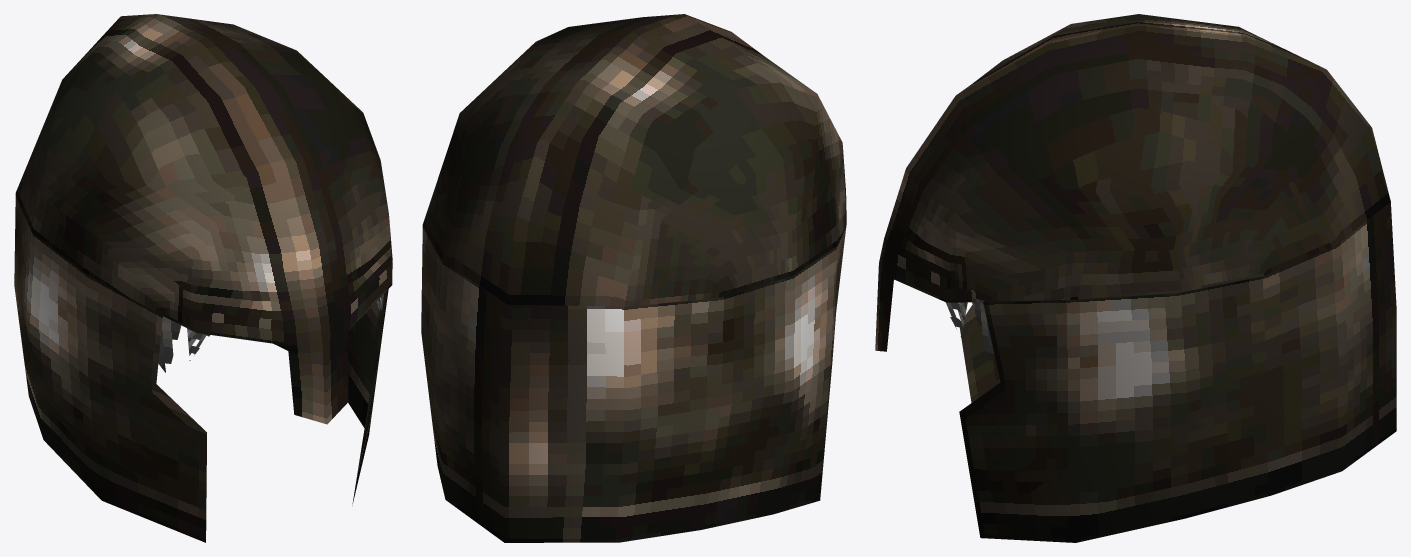
File: m_hair146.glb
3 views of the same model, side by side, from view 1: azimuth 30°, elevation 25°; view 2: azimuth 150°, elevation 25°; view 3: azimuth 270°, elevation 25° (orthographic). The views are drawn at different scales.
Bounding box in the file's own units: 18.18 × 23.71 × 23.7.
Materials: 1 (1 with a texture image).
